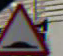Speed Breaker ahead: (0, 0, 52, 55)
